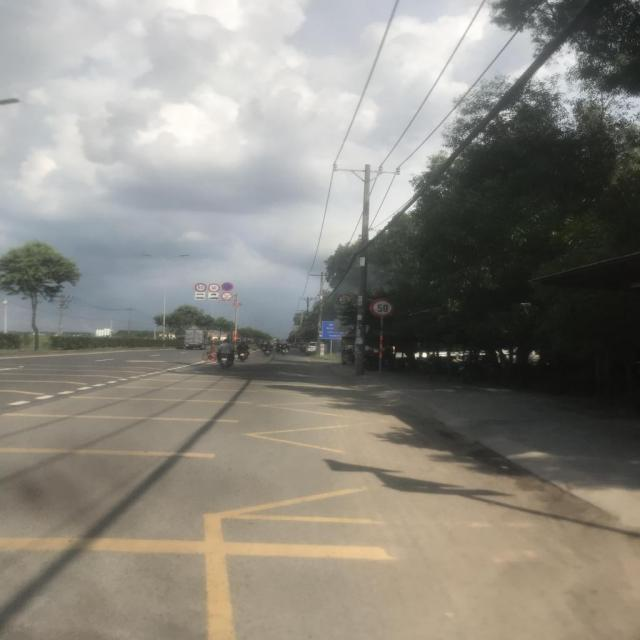127-toc-do-toi-da-50: (369, 297, 396, 319)
127-toc-do-toi-da-60: (208, 283, 220, 293)
127-toc-do-toi-da-80: (194, 282, 208, 292)
